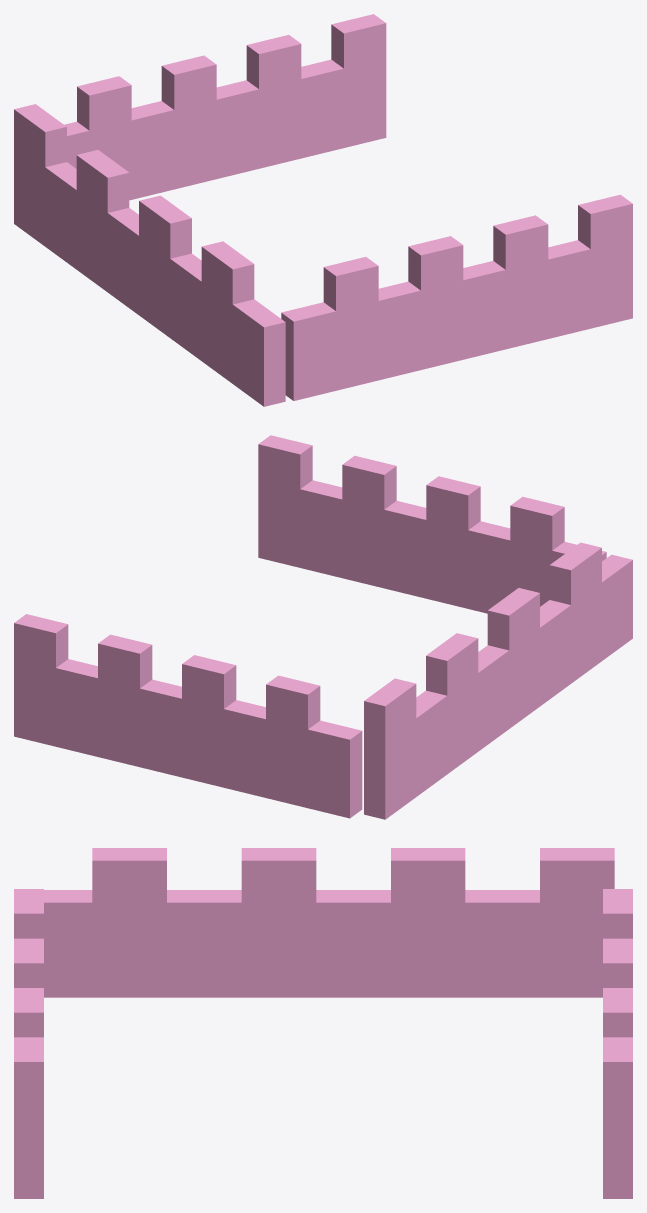
The model's file is castle walls 22.fbx.
The picture shows the model from 3 angles, top to bottom: view 1: azimuth 30°, elevation 25°; view 2: azimuth 150°, elevation 25°; view 3: azimuth 270°, elevation 25°; orthographic projection. The views are drawn at different scales.
Parts seen in each view (by area): view 1: Cube.116; view 2: Cube.116; view 3: Cube.116.
Boxes of the visible parts, x1=… form: Cube.116: x1=14, y1=14, x2=632, y2=406; Cube.116: x1=14, y1=435, x2=632, y2=819; Cube.116: x1=14, y1=848, x2=632, y2=1198.
Size of the model in its own units: 509 by 152 by 622.
